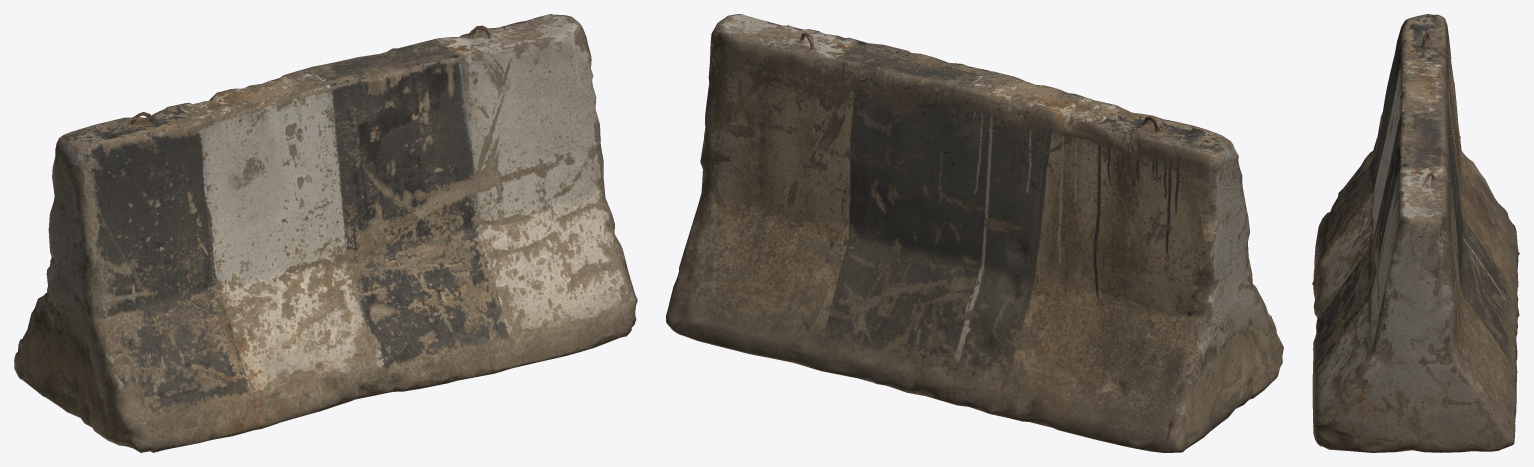
The model's file is concrete_road_barrier.glb.
3 views of the same model, side by side, from view 1: azimuth 30°, elevation 25°; view 2: azimuth 150°, elevation 25°; view 3: azimuth 270°, elevation 25° (orthographic). The views are drawn at different scales.
Parts seen in each view (by area): view 1: barrier_LOD0; view 2: barrier_LOD0; view 3: barrier_LOD0.
Part boxes in pixels (x1=…): barrier_LOD0: x1=14, y1=14, x2=637, y2=452; barrier_LOD0: x1=666, y1=14, x2=1283, y2=452; barrier_LOD0: x1=1312, y1=14, x2=1519, y2=452.
Size of what is drawn, in the model's own units: 1.55 by 0.8293 by 0.6387.
Materials: 1 (1 with a texture image).
